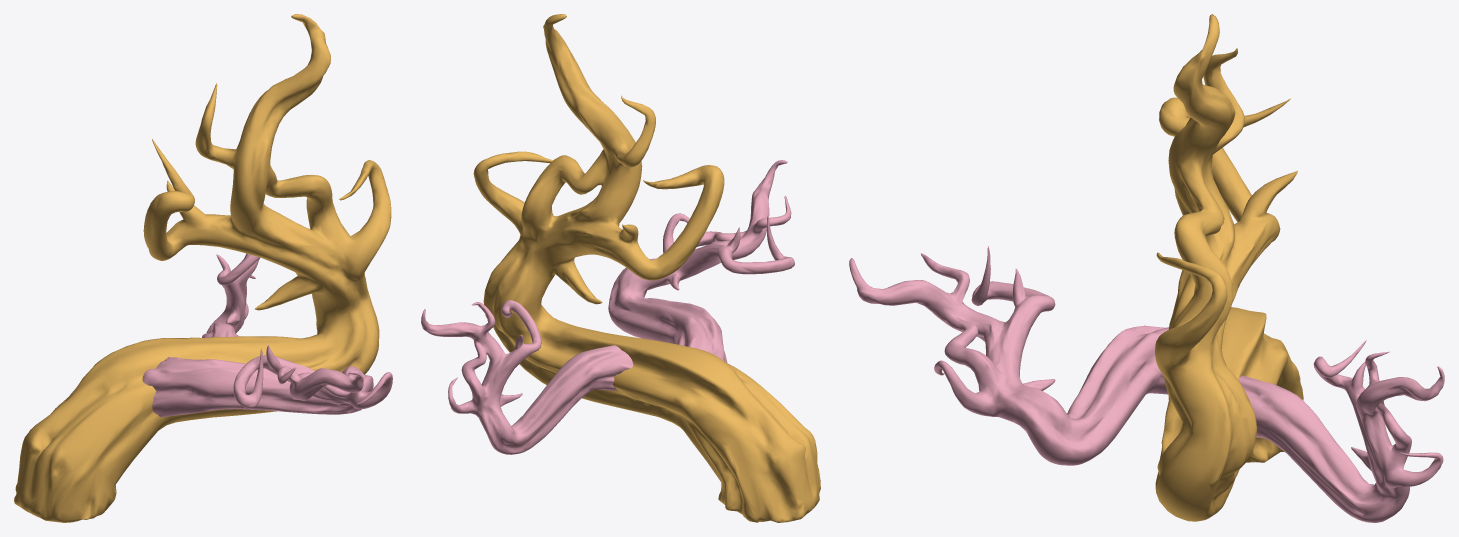
The model's file is Tree_low.fbx.
3 views of the same model, side by side, from view 1: azimuth 30°, elevation 25°; view 2: azimuth 150°, elevation 25°; view 3: azimuth 270°, elevation 25° (orthographic). The views are drawn at different scales.
Visible parts, largest first — view 1: TreeVF.001, TreeVF.002; view 2: TreeVF.001, TreeVF.002; view 3: TreeVF.001, TreeVF.002.
Part boxes in pixels (x1,y1,x2,y2): TreeVF.001: (14,14,391,522); TreeVF.002: (142,203,392,417); TreeVF.001: (473,14,820,522); TreeVF.002: (421,160,794,454); TreeVF.001: (1155,14,1303,521); TreeVF.002: (849,246,1444,522).
Bounding box in the file's own units: 259 × 309 × 296.
